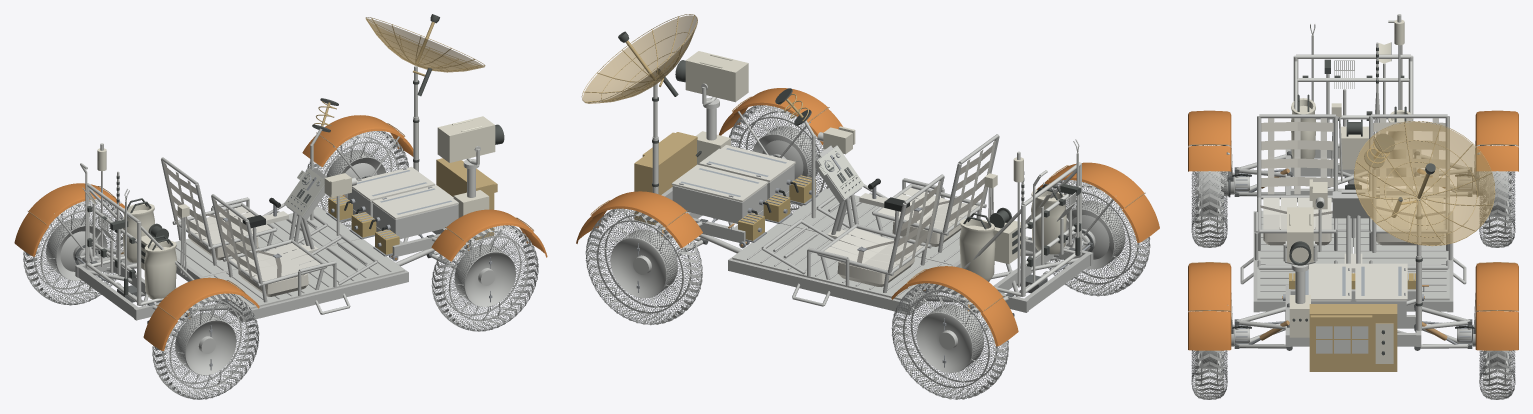
The model's file is rover.glb.
The picture shows the model from 3 angles, left to right: view 1: azimuth 30°, elevation 25°; view 2: azimuth 150°, elevation 25°; view 3: azimuth 270°, elevation 25°; orthographic projection. The views are drawn at different scales.
Parts seen in each view (by area): view 1: LRV_BeadedFloor, LRV_WovenWire_FR, LRV_WovenWire_RR, LRV_FoldingSeatFrames, LRV_SeatSlings, LRV_StructuralFrames, LRV_WovenWire_RL, LRV_SpunHub_RR, LRV_SpunHub_FR, LRV_RCAColourCameraAndTCU, LRV_Chevrons_FR, LRV_ReflectorMesh (+28 smaller); view 2: LRV_BeadedFloor, LRV_WovenWire_FL, LRV_WovenWire_RL, LRV_FoldingSeatFrames, LRV_ReflectorMesh, LRV_SeatSlings, LRV_SpunHub_FL, LRV_SpunHub_RL, LRV_StructuralFrames, LRV_Chevrons_FL, LRV_SampleCollectionBags, LRV_RCAColourCameraAndTCU (+29 smaller); view 3: LRV_ReflectorMesh, LRV_SeatBackWebbing, LRV_BeadedFloor, LRV_FoldingSeatFrames, LRV_SeatSlings, LRV_RelayBlanketAndEnclosure, LRV_FenderSkin_FL, LRV_FenderSkin_FR, LRV_FenderSkin_RR, LRV_FenderSkin_RL, LRV_StructuralFrames, LRV_ReflectorRibs (+39 smaller).
Part boxes in pixels (bbox=[...]): LRV_BeadedFloor: bbox=[175, 207, 404, 310]; LRV_WovenWire_FR: bbox=[432, 225, 538, 331]; LRV_WovenWire_RR: bbox=[152, 293, 258, 399]; LRV_FoldingSeatFrames: bbox=[161, 157, 377, 314]; LRV_SeatSlings: bbox=[164, 163, 320, 281]; LRV_StructuralFrames: bbox=[176, 207, 408, 322]; LRV_WovenWire_RL: bbox=[23, 199, 123, 305]; LRV_SpunHub_RR: bbox=[175, 312, 236, 375]; LRV_SpunHub_FR: bbox=[454, 244, 515, 306]; LRV_RCAColourCameraAndTCU: bbox=[437, 116, 495, 217]; LRV_Chevrons_FR: bbox=[431, 225, 538, 331]; LRV_ReflectorMesh: bbox=[366, 18, 484, 72]; LRV_BeadedFloor: bbox=[732, 188, 960, 301]; LRV_WovenWire_FL: bbox=[586, 208, 702, 324]; LRV_WovenWire_RL: bbox=[892, 283, 1008, 399]; LRV_FoldingSeatFrames: bbox=[761, 134, 999, 306]; LRV_ReflectorMesh: bbox=[583, 15, 697, 103]; LRV_SeatSlings: bbox=[824, 140, 996, 269]; LRV_SpunHub_FL: bbox=[610, 229, 677, 298]; LRV_SpunHub_RL: bbox=[916, 304, 983, 372]; LRV_StructuralFrames: bbox=[728, 188, 959, 314]; LRV_Chevrons_FL: bbox=[585, 208, 702, 324]; LRV_SampleCollectionBags: bbox=[959, 189, 1066, 281]; LRV_RCAColourCameraAndTCU: bbox=[685, 51, 748, 164]; LRV_ReflectorMesh: bbox=[1354, 122, 1494, 246]; LRV_SeatBackWebbing: bbox=[1261, 122, 1445, 186]; LRV_BeadedFloor: bbox=[1257, 210, 1449, 300]; LRV_FoldingSeatFrames: bbox=[1240, 114, 1466, 284]; LRV_SeatSlings: bbox=[1263, 118, 1443, 229]; LRV_RelayBlanketAndEnclosure: bbox=[1309, 304, 1397, 371]; LRV_FenderSkin_FL: bbox=[1475, 262, 1518, 350]; LRV_FenderSkin_FR: bbox=[1188, 262, 1231, 350]; LRV_FenderSkin_RR: bbox=[1188, 110, 1231, 171]; LRV_FenderSkin_RL: bbox=[1475, 110, 1518, 171]; LRV_StructuralFrames: bbox=[1253, 211, 1453, 312]; LRV_ReflectorRibs: bbox=[1354, 121, 1495, 245].
Bounding box in the file's own units: 3.42 × 1.89 × 2.1.
